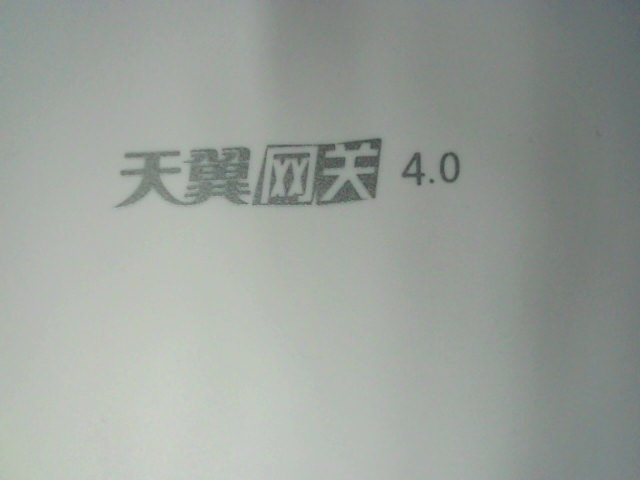BM_TianYiWangGuan: (110, 134, 469, 218)
